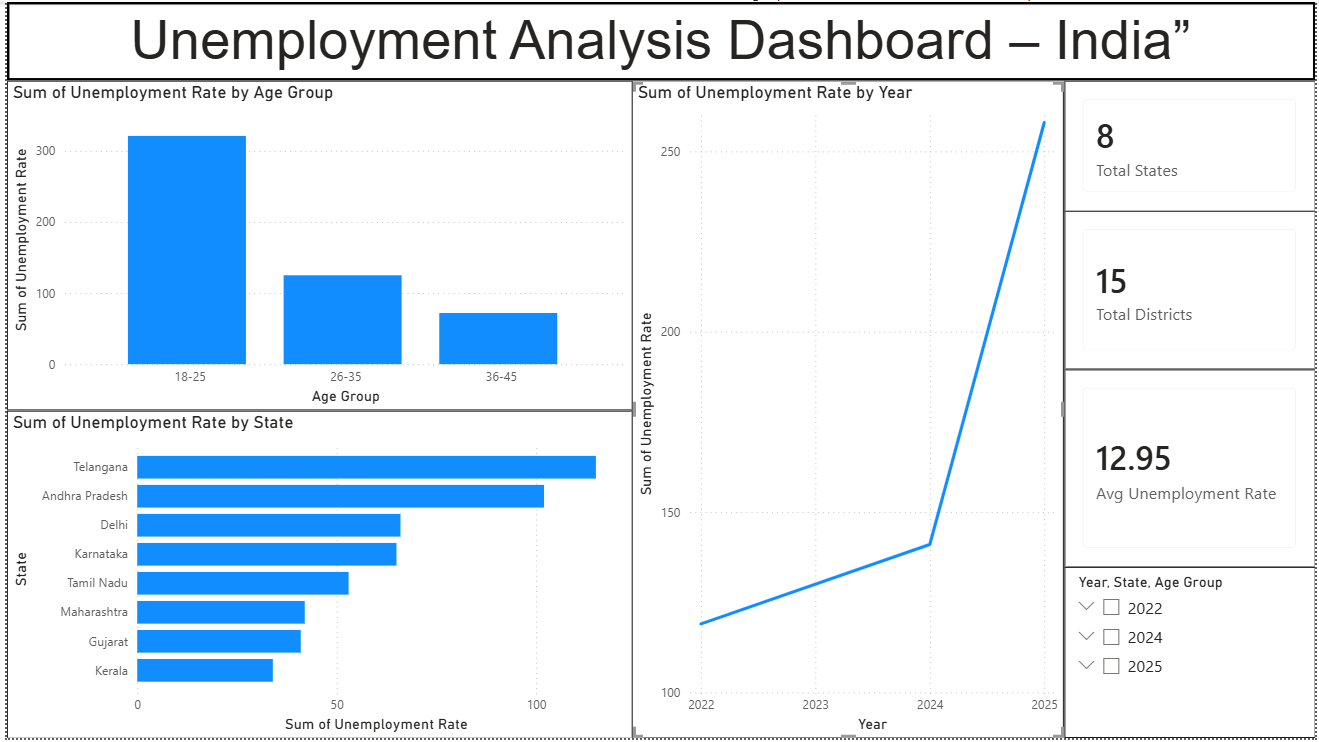

The page's visual inventory and layout, read from the dashboard file:
{"tool":"powerbi","page":{"name":"Page 1","canvas":[1280,720],"ordinal":0},"visuals":[{"type":"lineChart","fields":{"Category":["Unemployement data.Year"],"Y":["Sum(Unemployement data.Unemployment Rate)"]},"box":[612,76.8,422.6,643.6],"z":0},{"type":"clusteredBarChart","fields":{"Category":["Unemployement data.State"],"Y":["Sum(Unemployement data.Unemployment Rate)"]},"box":[0,399.3,612,321.1],"z":1000},{"type":"clusteredColumnChart","fields":{"Category":["Unemployement data.Age Group"],"Y":["Sum(Unemployement data.Unemployment Rate)"]},"box":[0,76.8,612,322.5],"z":2000},{"type":"cardVisual","fields":{"Data":["Avg(Unemployement data.Unemployment Rate)"]},"box":[1034.7,359.5,245.6,193.5],"z":3000},{"type":"cardVisual","fields":{"Data":["Count(Unemployement data.District)"]},"box":[1034.7,204.5,245.6,155.1],"z":4000},{"type":"cardVisual","fields":{"Data":["Count(Unemployement data.State)"]},"box":[1034.7,76.8,245.6,127.6],"z":5000},{"type":"slicer","fields":{"Values":["Unemployement data.Year","Unemployement data.State","Unemployement data.Age Group"]},"box":[1034.7,553,245.6,167.4],"z":6000},{"type":"textbox","box":[0,0,1280.3,76.8],"z":7000}]}

Visuals, with their boxes in screenshot pixels (x1, y1, x2, y2), scaled from the page's 1280x720 canvas onto the 1319x742 screenshot:
lineChart - Unemployement data.Year x Sum(Unemployement data.Unemployment Rate): <region>631, 79, 1066, 741</region>
clusteredBarChart - Unemployement data.State x Sum(Unemployement data.Unemployment Rate): <region>0, 412, 631, 741</region>
clusteredColumnChart - Unemployement data.Age Group x Sum(Unemployement data.Unemployment Rate): <region>0, 79, 631, 412</region>
cardVisual - Avg(Unemployement data.Unemployment Rate): <region>1066, 370, 1318, 570</region>
cardVisual - Count(Unemployement data.District): <region>1066, 211, 1318, 371</region>
cardVisual - Count(Unemployement data.State): <region>1066, 79, 1318, 211</region>
slicer - Unemployement data.Year x Unemployement data.State: <region>1066, 570, 1318, 741</region>
textbox: <region>0, 0, 1318, 79</region>
